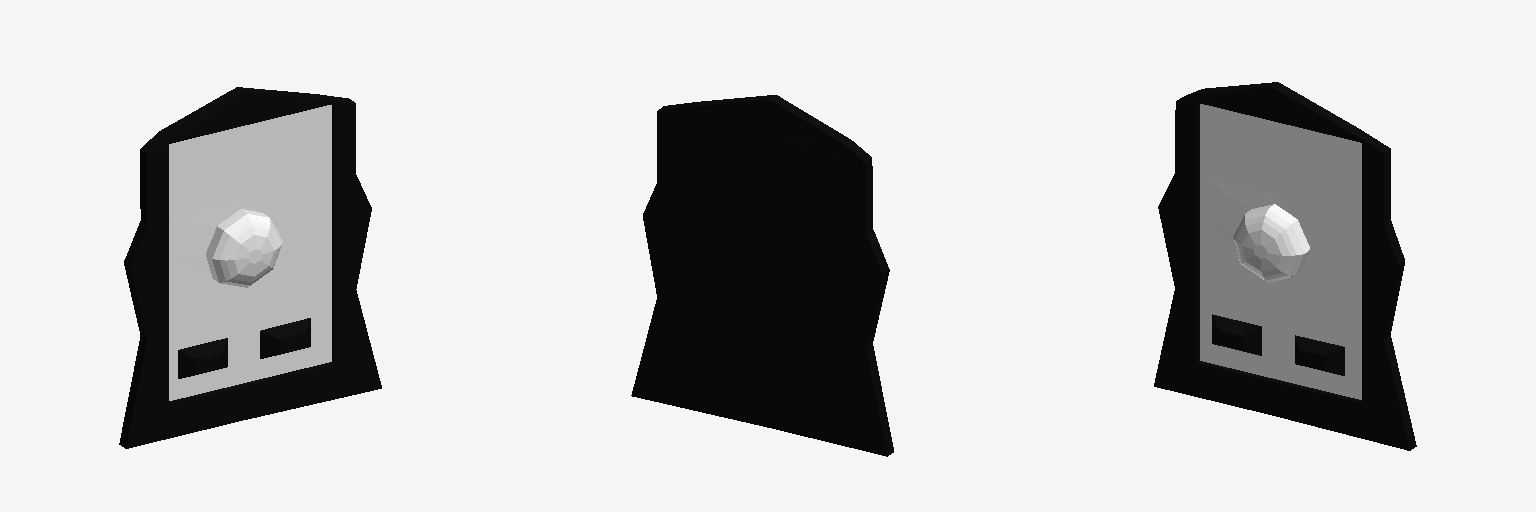
3 renders of one model, left to right at view 1: azimuth 30°, elevation 25°; view 2: azimuth 150°, elevation 25°; view 3: azimuth 330°, elevation 25°, orthographic.
Visible parts, largest first — view 1: przelacznik_Cube.081; view 2: przelacznik_Cube.081; view 3: przelacznik_Cube.081.
Boxes of the visible parts, x1=… form: przelacznik_Cube.081: x1=119, y1=87, x2=381, y2=448; przelacznik_Cube.081: x1=631, y1=95, x2=893, y2=456; przelacznik_Cube.081: x1=1154, y1=82, x2=1416, y2=450.
Size of the model in its own units: 1.2 by 1.47 by 0.1536.
Materials: 1 (1 with a texture image).